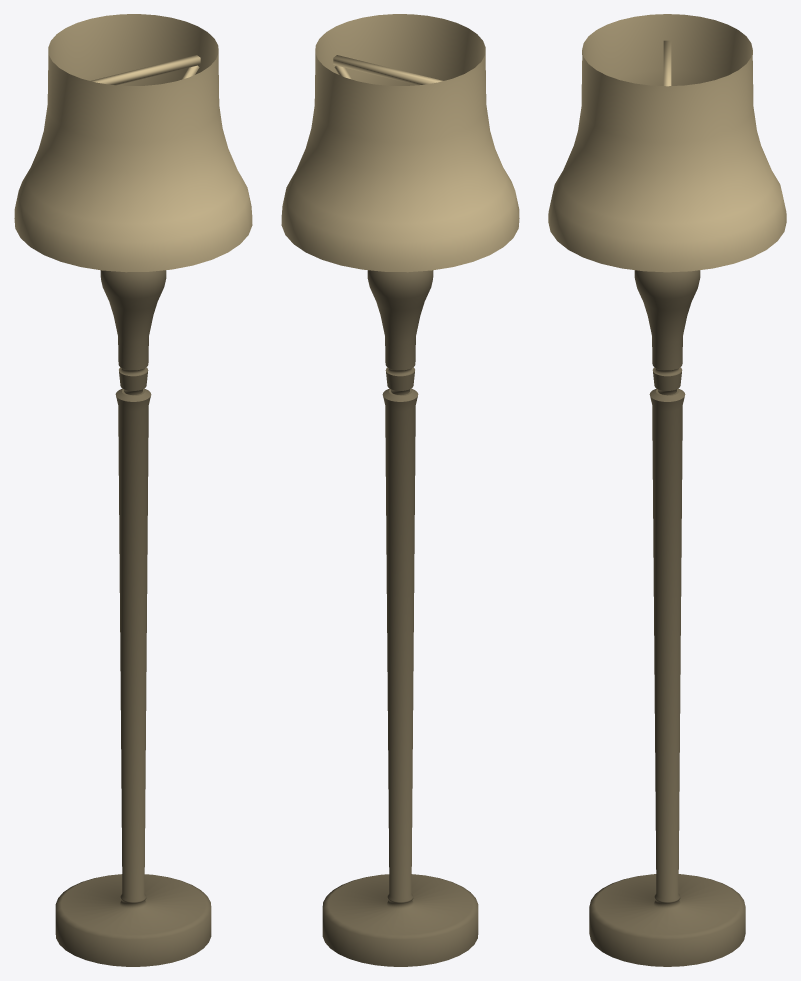
Rendered from StandingLamp.fbx.
3 renders of one model, left to right at view 1: azimuth 30°, elevation 25°; view 2: azimuth 150°, elevation 25°; view 3: azimuth 270°, elevation 25°, orthographic.
Parts seen in each view (by area): view 1: StandingLamp; view 2: StandingLamp; view 3: StandingLamp.
Part boxes in pixels (left/top/right/bottom): StandingLamp: left=14, top=14, right=252, bottom=966; StandingLamp: left=281, top=14, right=519, bottom=966; StandingLamp: left=548, top=14, right=786, bottom=966.
Bounding box in the file's own units: 44.86 × 183 × 44.86.
